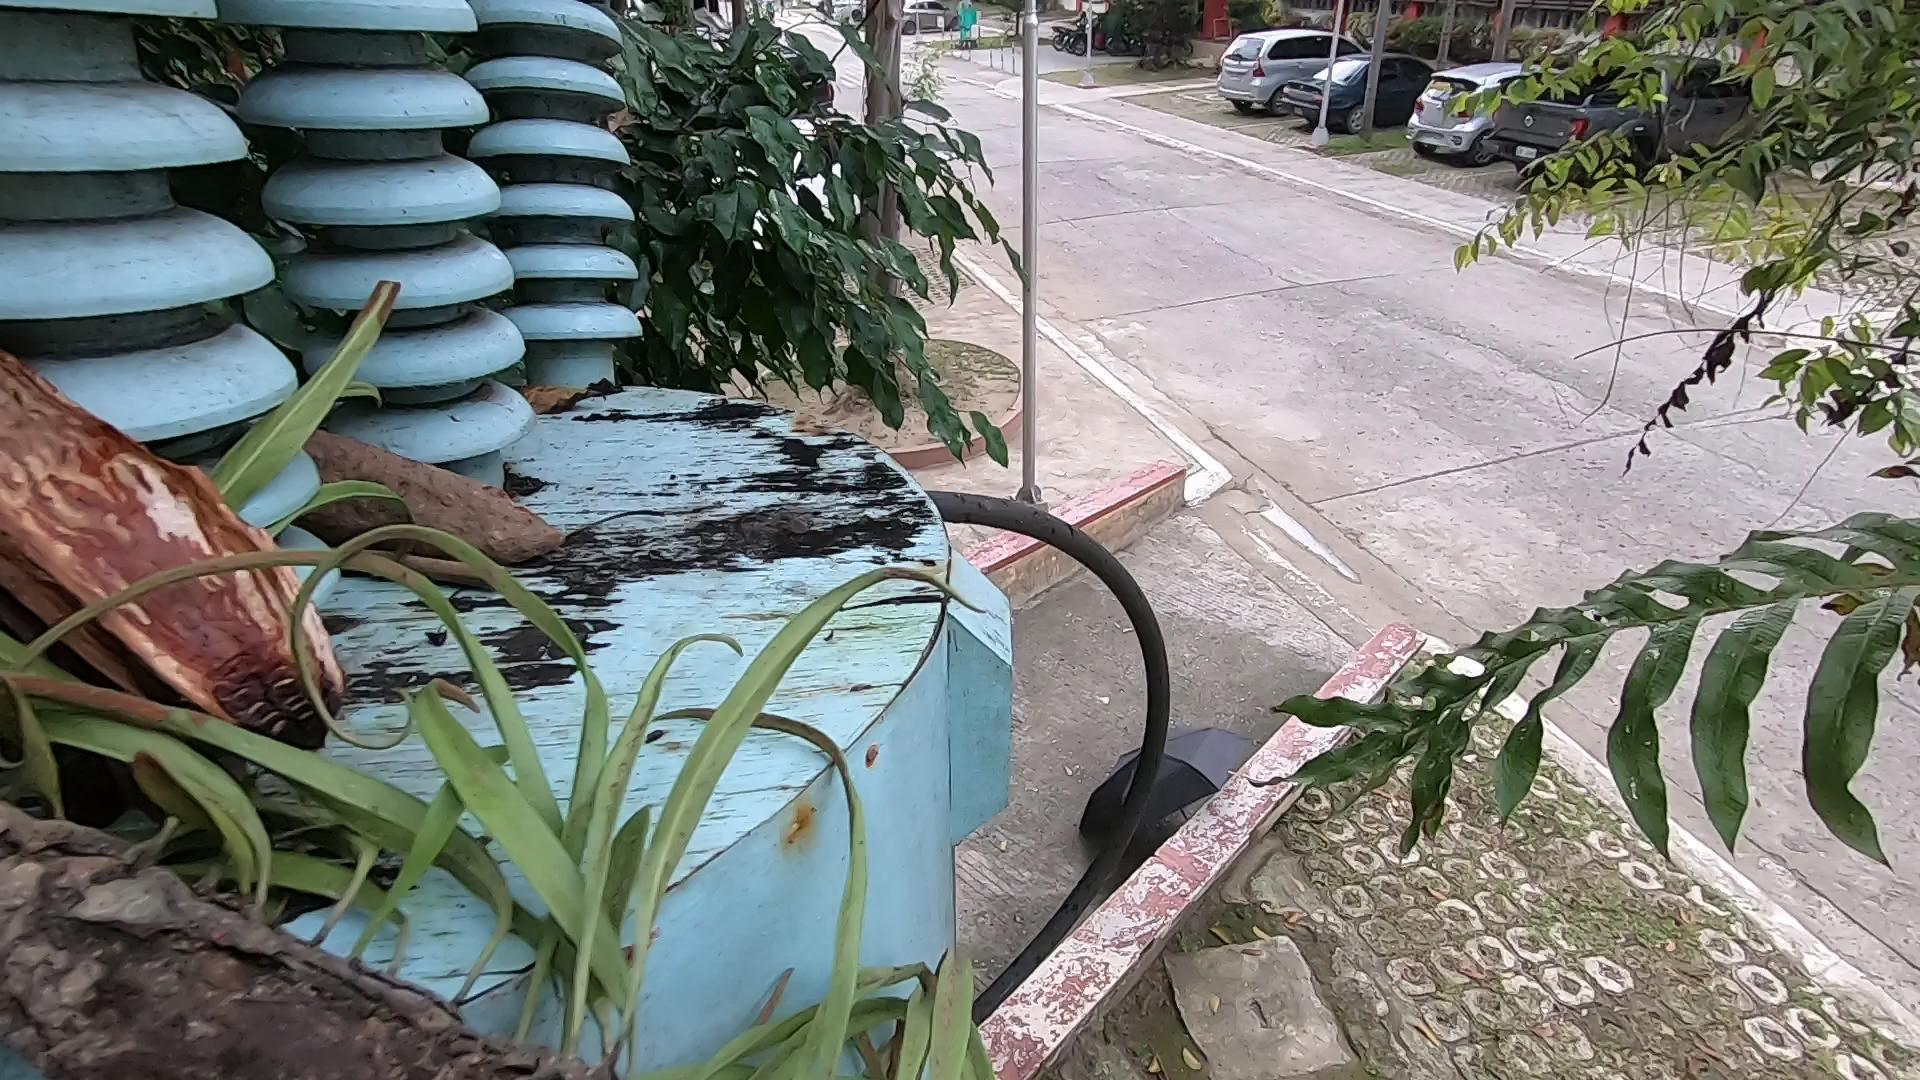branch with leaves: (7, 855, 799, 1080)
leaf: (520, 365, 601, 421)
mahogany fruit: (1, 289, 293, 769), (272, 398, 582, 593)
tree branch: (303, 524, 576, 599)
